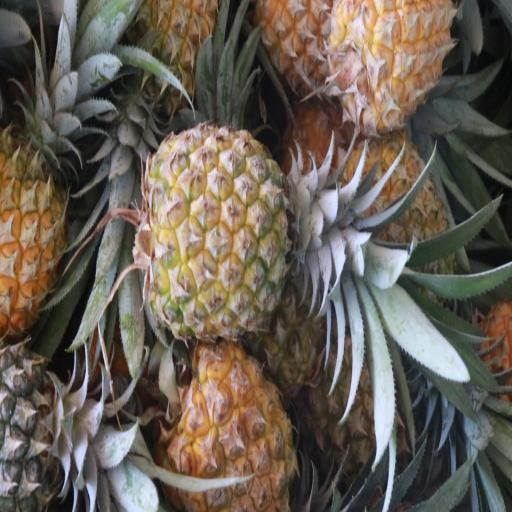------------------------------: (344, 142, 454, 306)
Pineapple - v8 v1: (144, 128, 289, 334), (168, 340, 294, 512), (332, 0, 451, 134), (0, 138, 72, 333)
